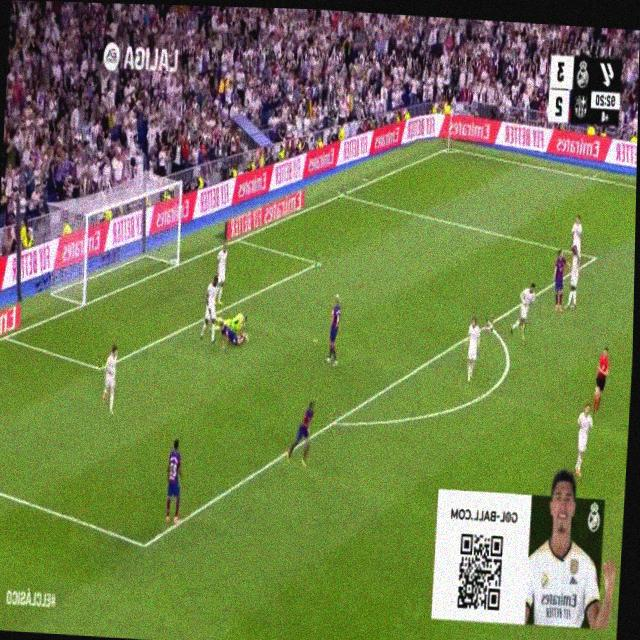bigarea_bottom_inner: (95, 356, 106, 378)
bigarea_top_inner: (312, 252, 324, 272)
bigarea_top_outter: (337, 185, 347, 201)
bottom_arc_area_intersection: (328, 409, 341, 433)
corner: (442, 141, 454, 153)
smallarea_bottom_outter: (0, 329, 11, 345)
smallarea_top_inner: (314, 254, 322, 271)
top_arc_area_intersection: (483, 314, 493, 333)
